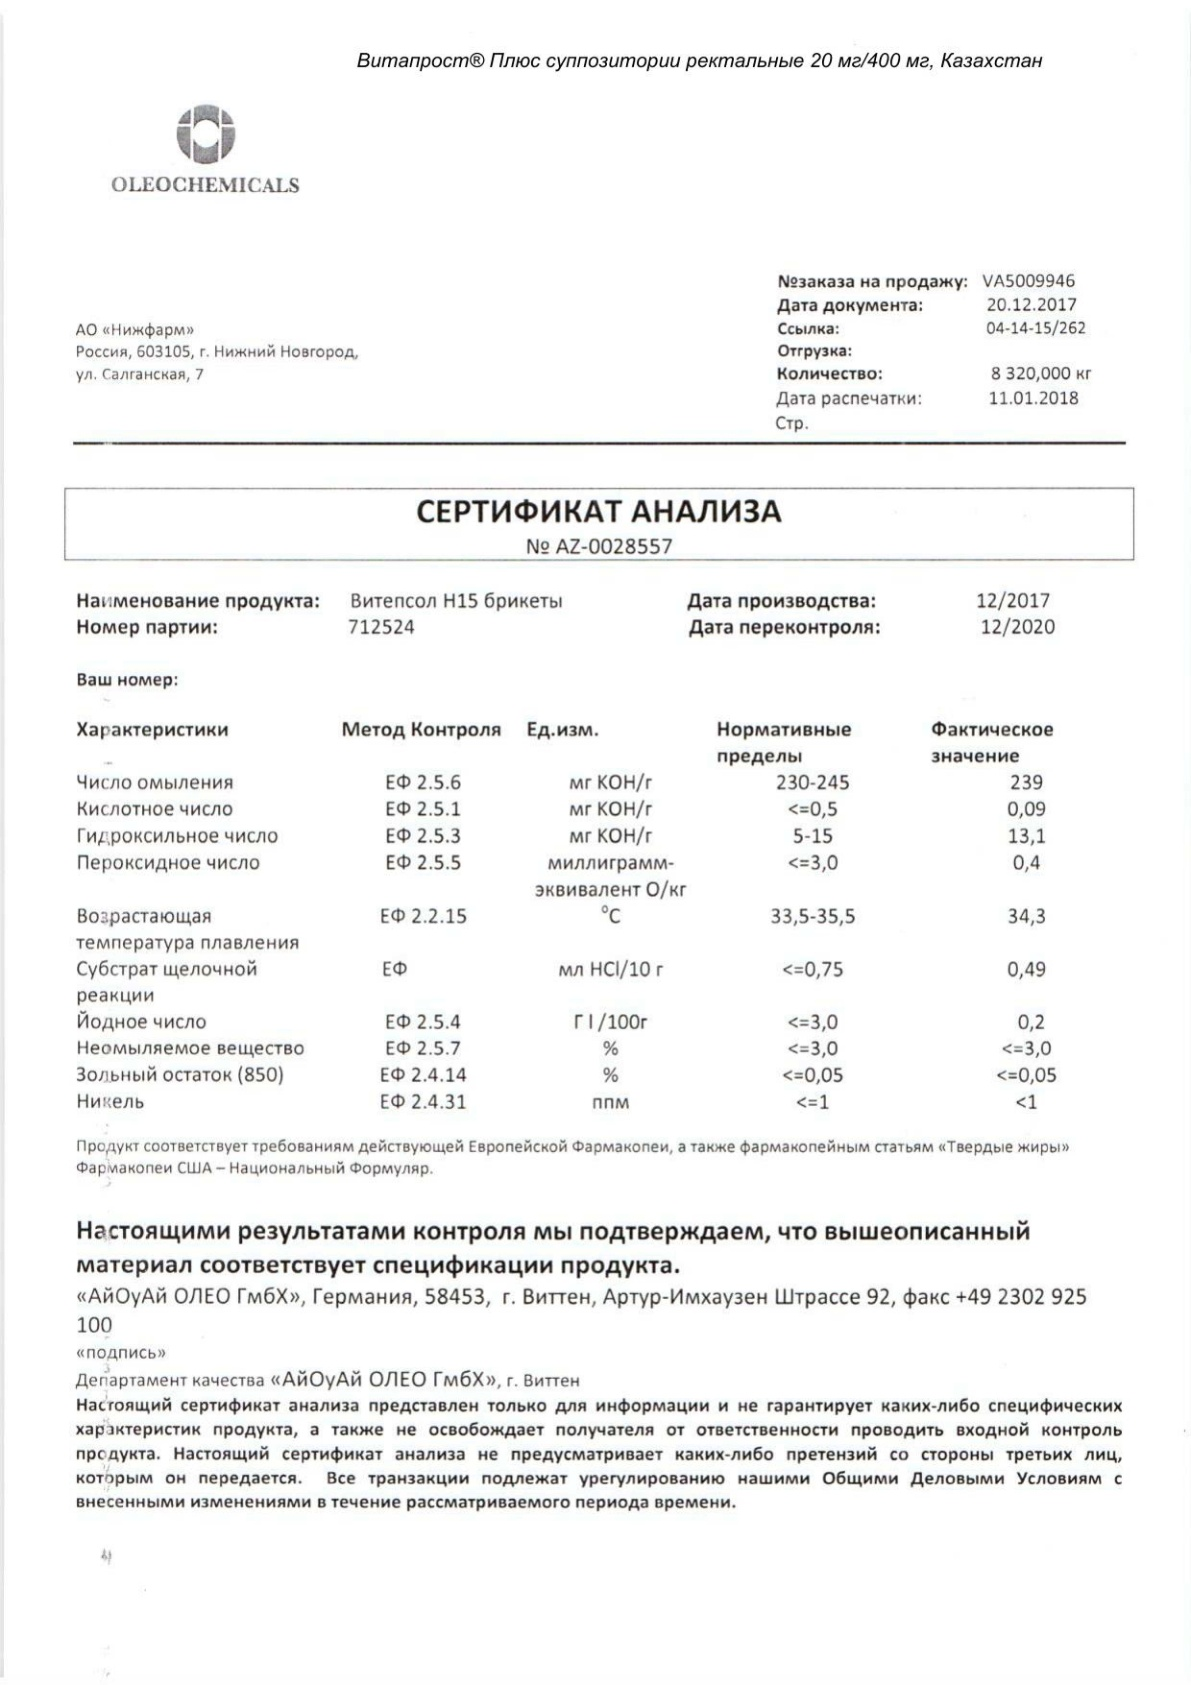nolines: (71, 718, 1061, 1113), (72, 590, 1060, 688), (773, 269, 1094, 433)
